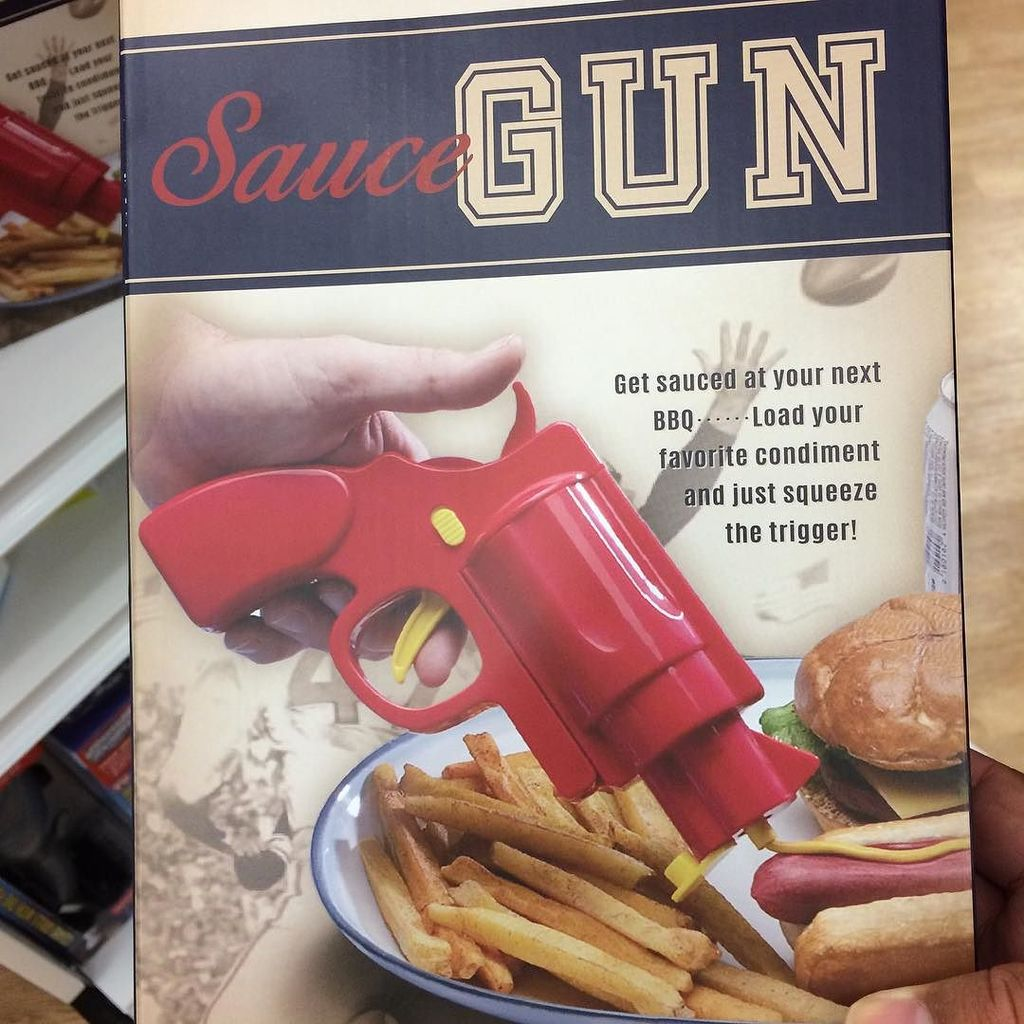French fries: (337, 746, 797, 1011)
